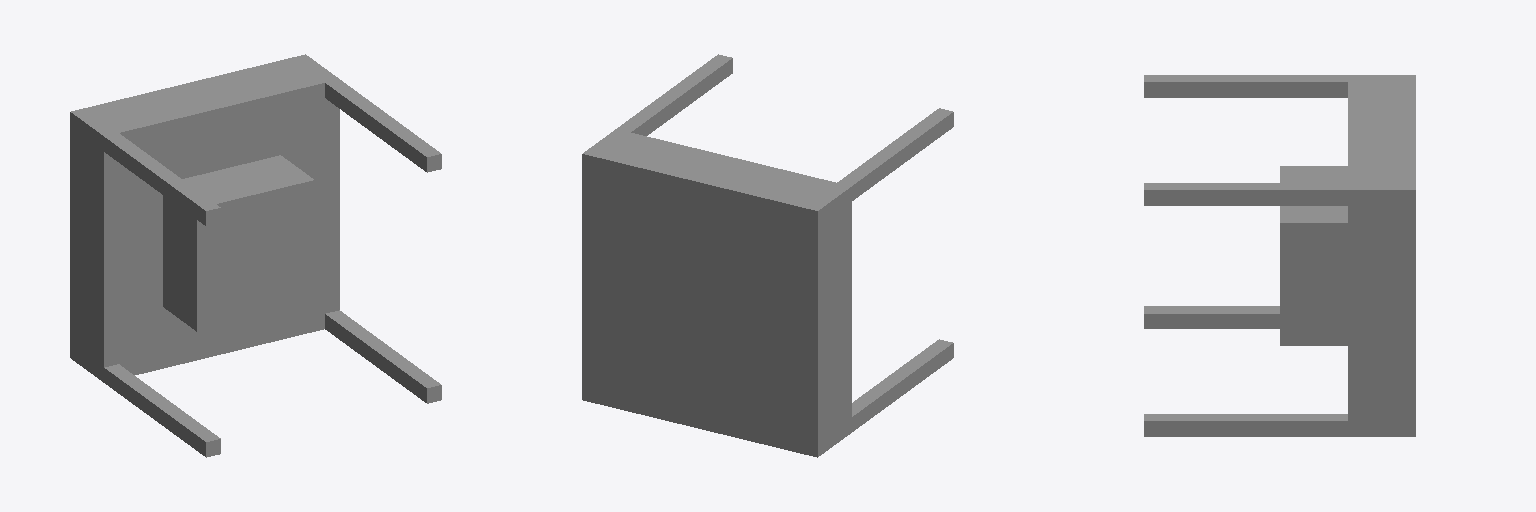
Rendered from blockbreaker.obj.
3 renders of one model, left to right at view 1: azimuth 30°, elevation 25°; view 2: azimuth 150°, elevation 25°; view 3: azimuth 270°, elevation 25°, orthographic.
Parts seen in each view (by area): view 1: Cube; view 2: Cube; view 3: Cube.
Boxes of the visible parts, x1=… form: Cube: x1=70, y1=54, x2=441, y2=457; Cube: x1=582, y1=54, x2=953, y2=457; Cube: x1=1144, y1=75, x2=1415, y2=436.
Bounding box in the file's own units: 1 × 1 × 1.